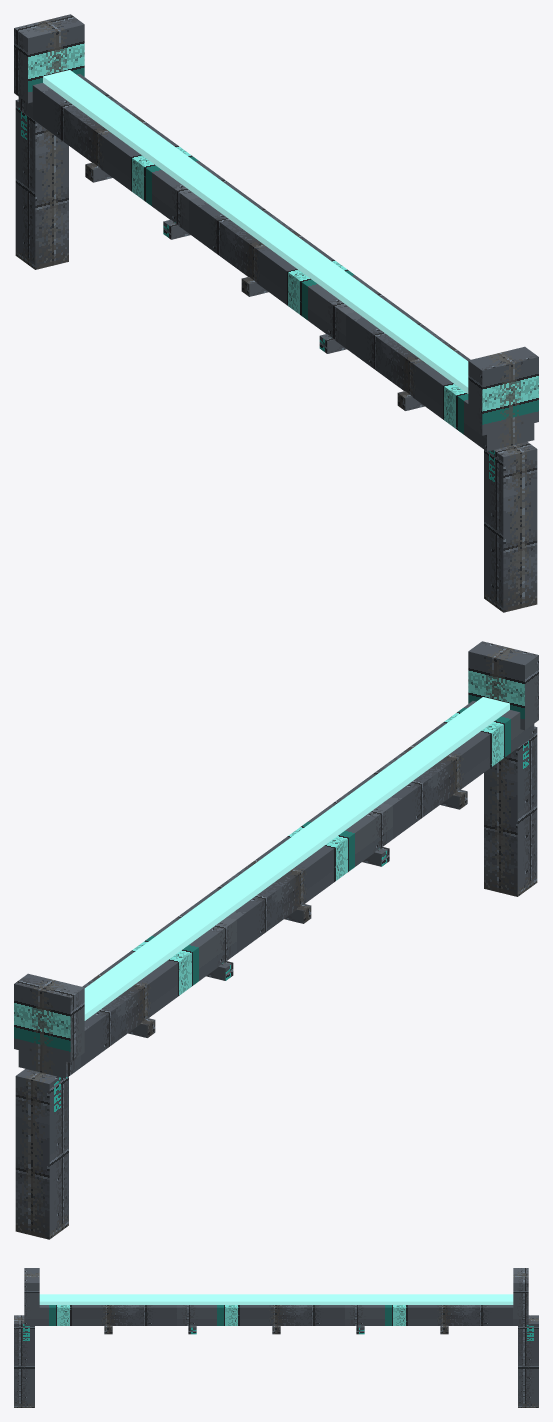
Rendered from rail_beam.glb.
3 views of the same model, one above another, from view 1: azimuth 30°, elevation 25°; view 2: azimuth 150°, elevation 25°; view 3: azimuth 270°, elevation 25° (orthographic). The views are drawn at different scales.
Parts seen in each view (by area): view 1: rail_beam; view 2: rail_beam; view 3: rail_beam.
Boxes of the visible parts, box(x1,y1,x2,y2) form: rail_beam: box(14, 14, 538, 612); rail_beam: box(14, 641, 538, 1239); rail_beam: box(14, 1268, 538, 1407).
Bounding box in the file's own units: 0.46 × 1.68 × 6.25.
Materials: 2 (1 with a texture image).
